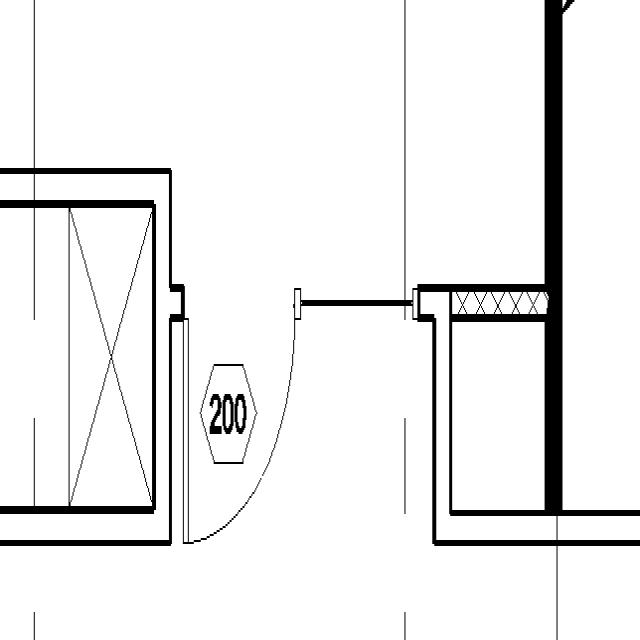Doors: (179, 305, 304, 549)
